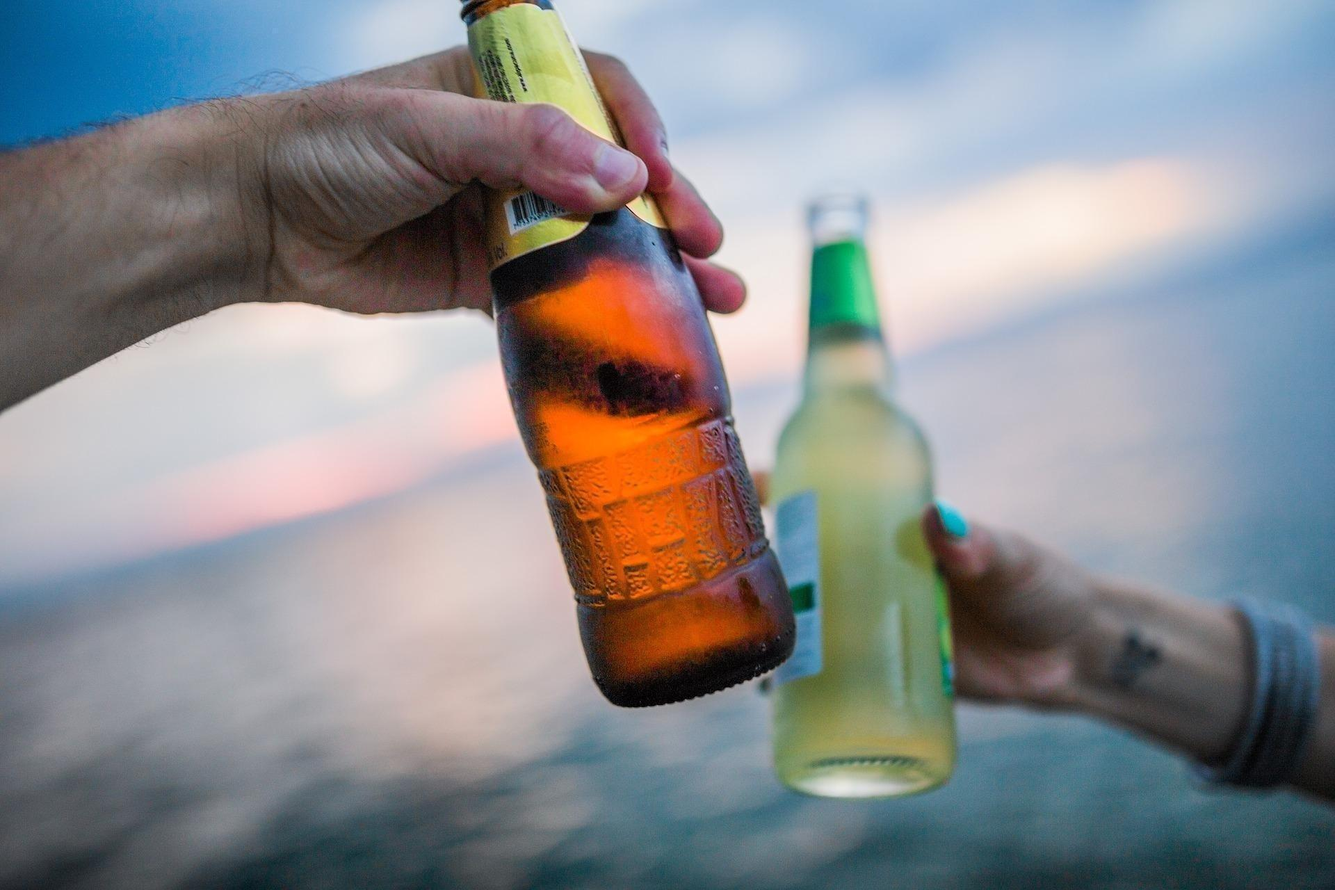bottle-glass: (446, 1, 804, 717), (758, 179, 968, 809)
